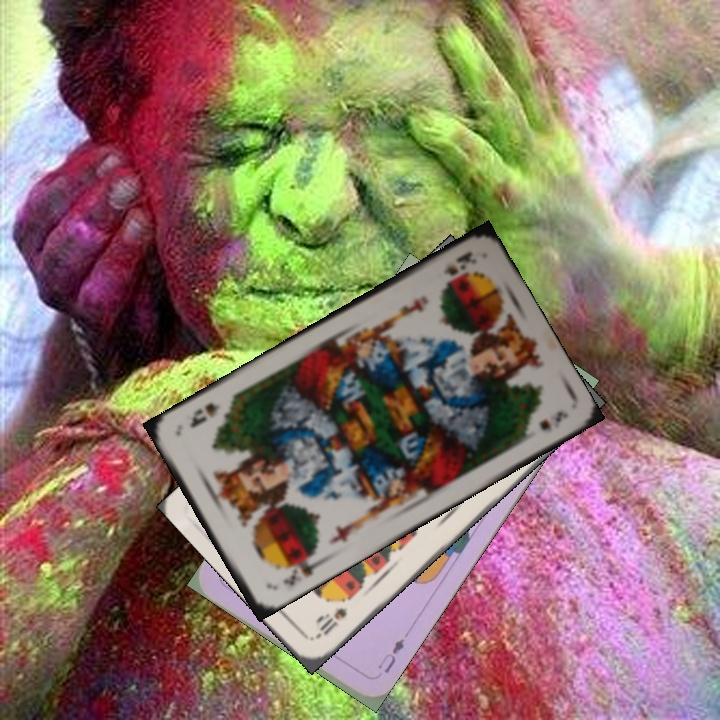EU: (374, 634, 408, 676)
S10: (311, 603, 350, 642)
SK: (279, 549, 322, 589), (440, 247, 480, 278)
